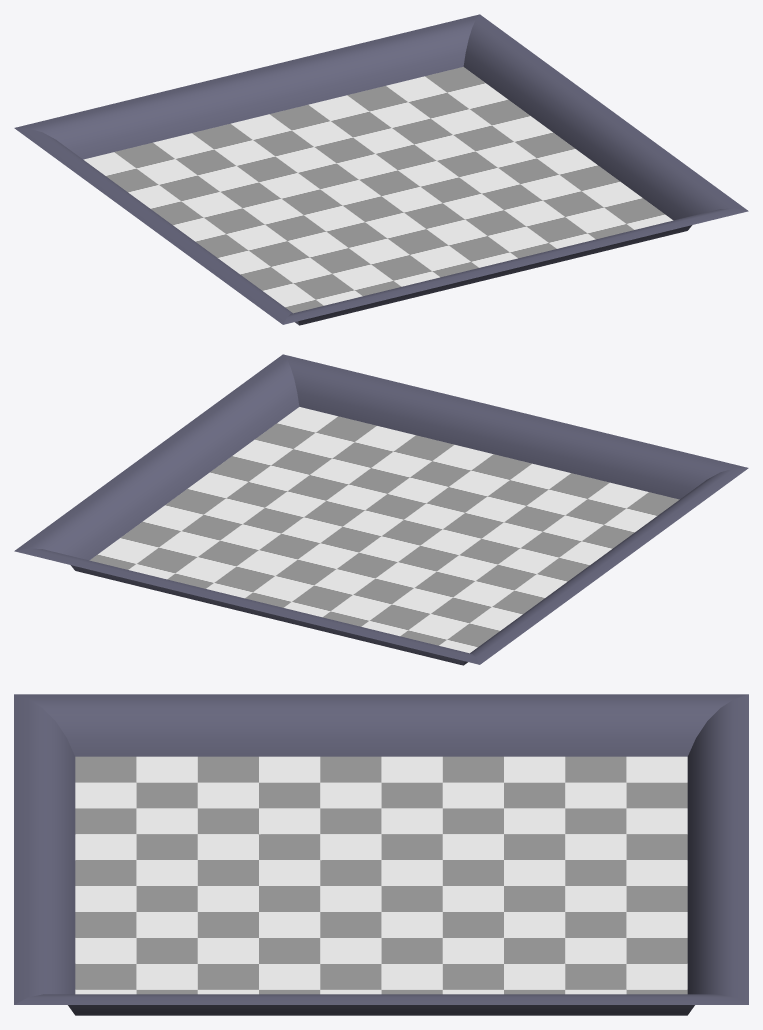
File: Arena.fbx
3 views of the same model, one above another, from view 1: azimuth 30°, elevation 25°; view 2: azimuth 150°, elevation 25°; view 3: azimuth 270°, elevation 25° (orthographic). The views are drawn at different scales.
Parts seen in each view (by area): view 1: Cube1; view 2: Cube1; view 3: Cube1.
Boxes of the visible parts, x1,y1,x2,y2 form: Cube1: (14, 14, 748, 325); Cube1: (14, 354, 748, 665); Cube1: (14, 694, 748, 1015).
Bounding box in the file's own units: 12 × 0.6846 × 12.
